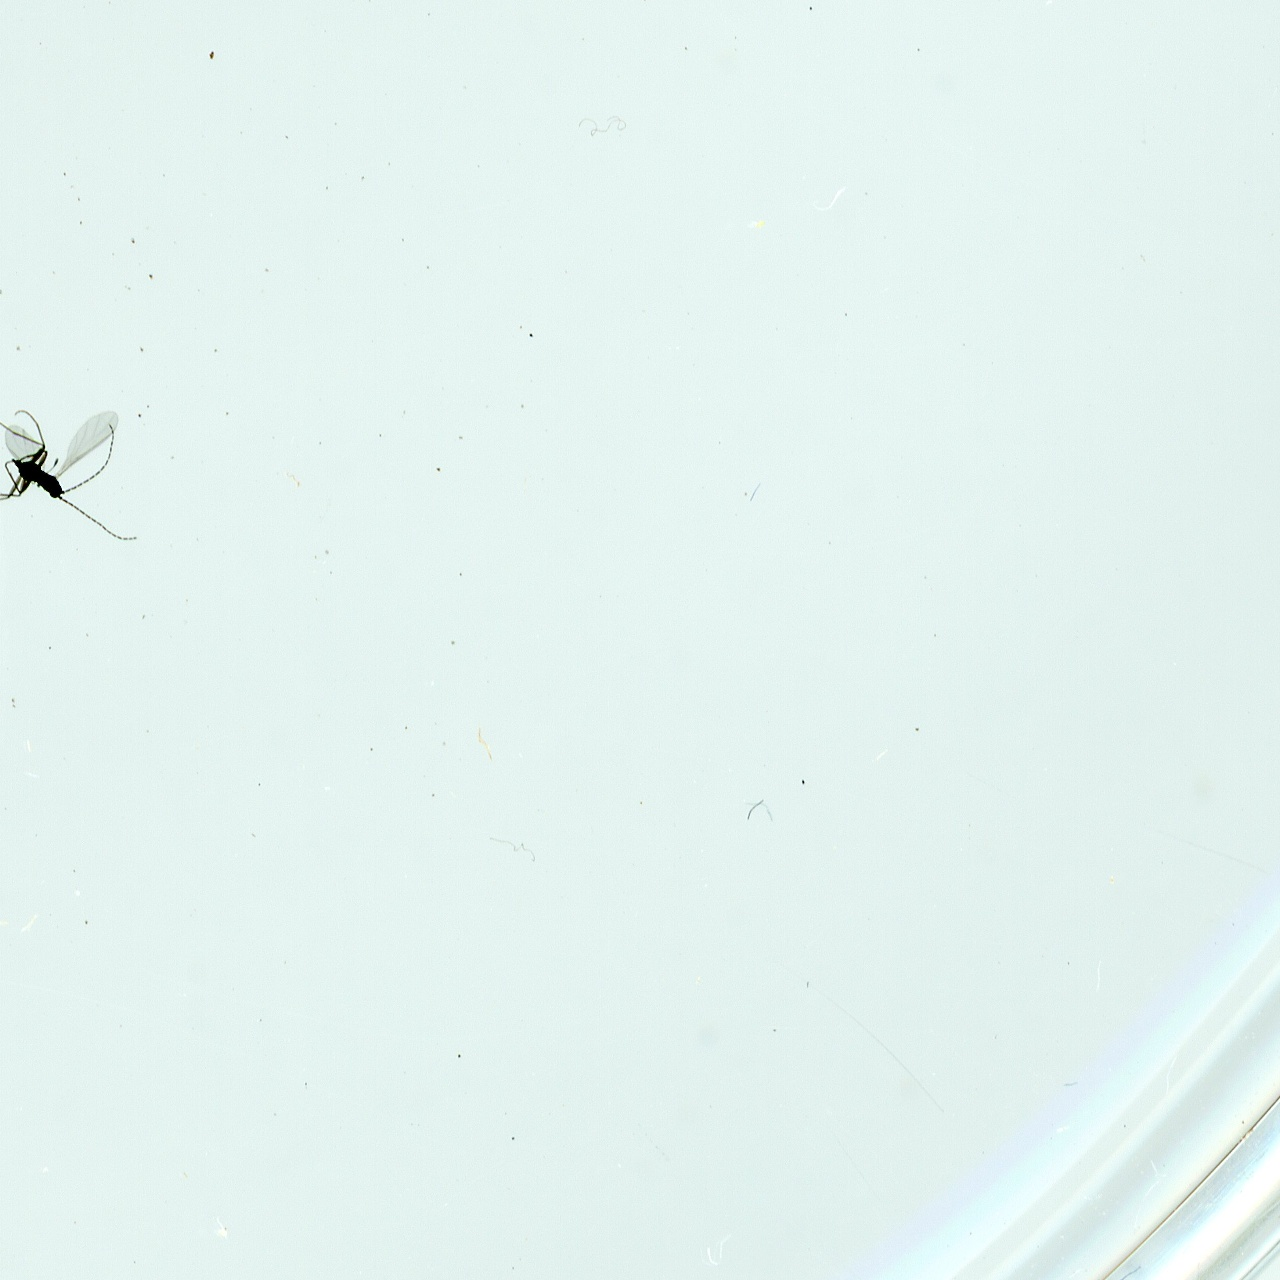arthropod: (0, 403, 147, 544)
